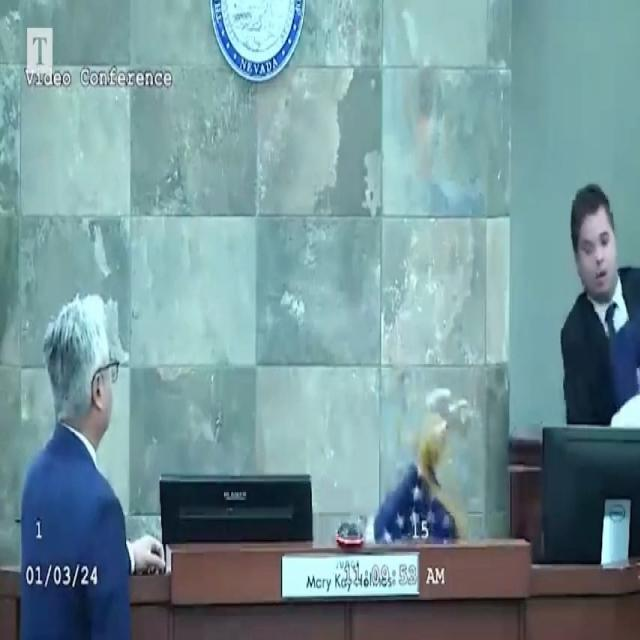non-fight: (16, 268, 137, 640), (553, 174, 640, 425)
